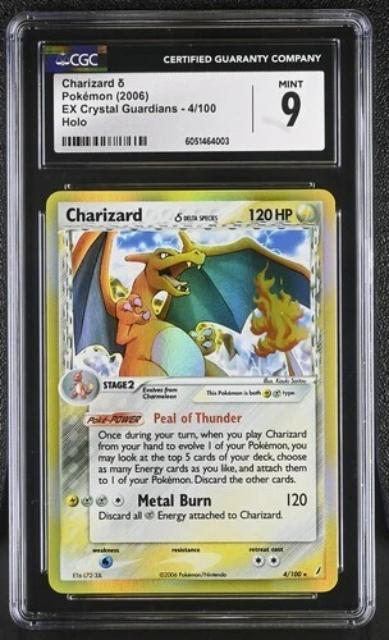Card: (42, 187, 342, 596)
Name: (62, 203, 150, 223)
